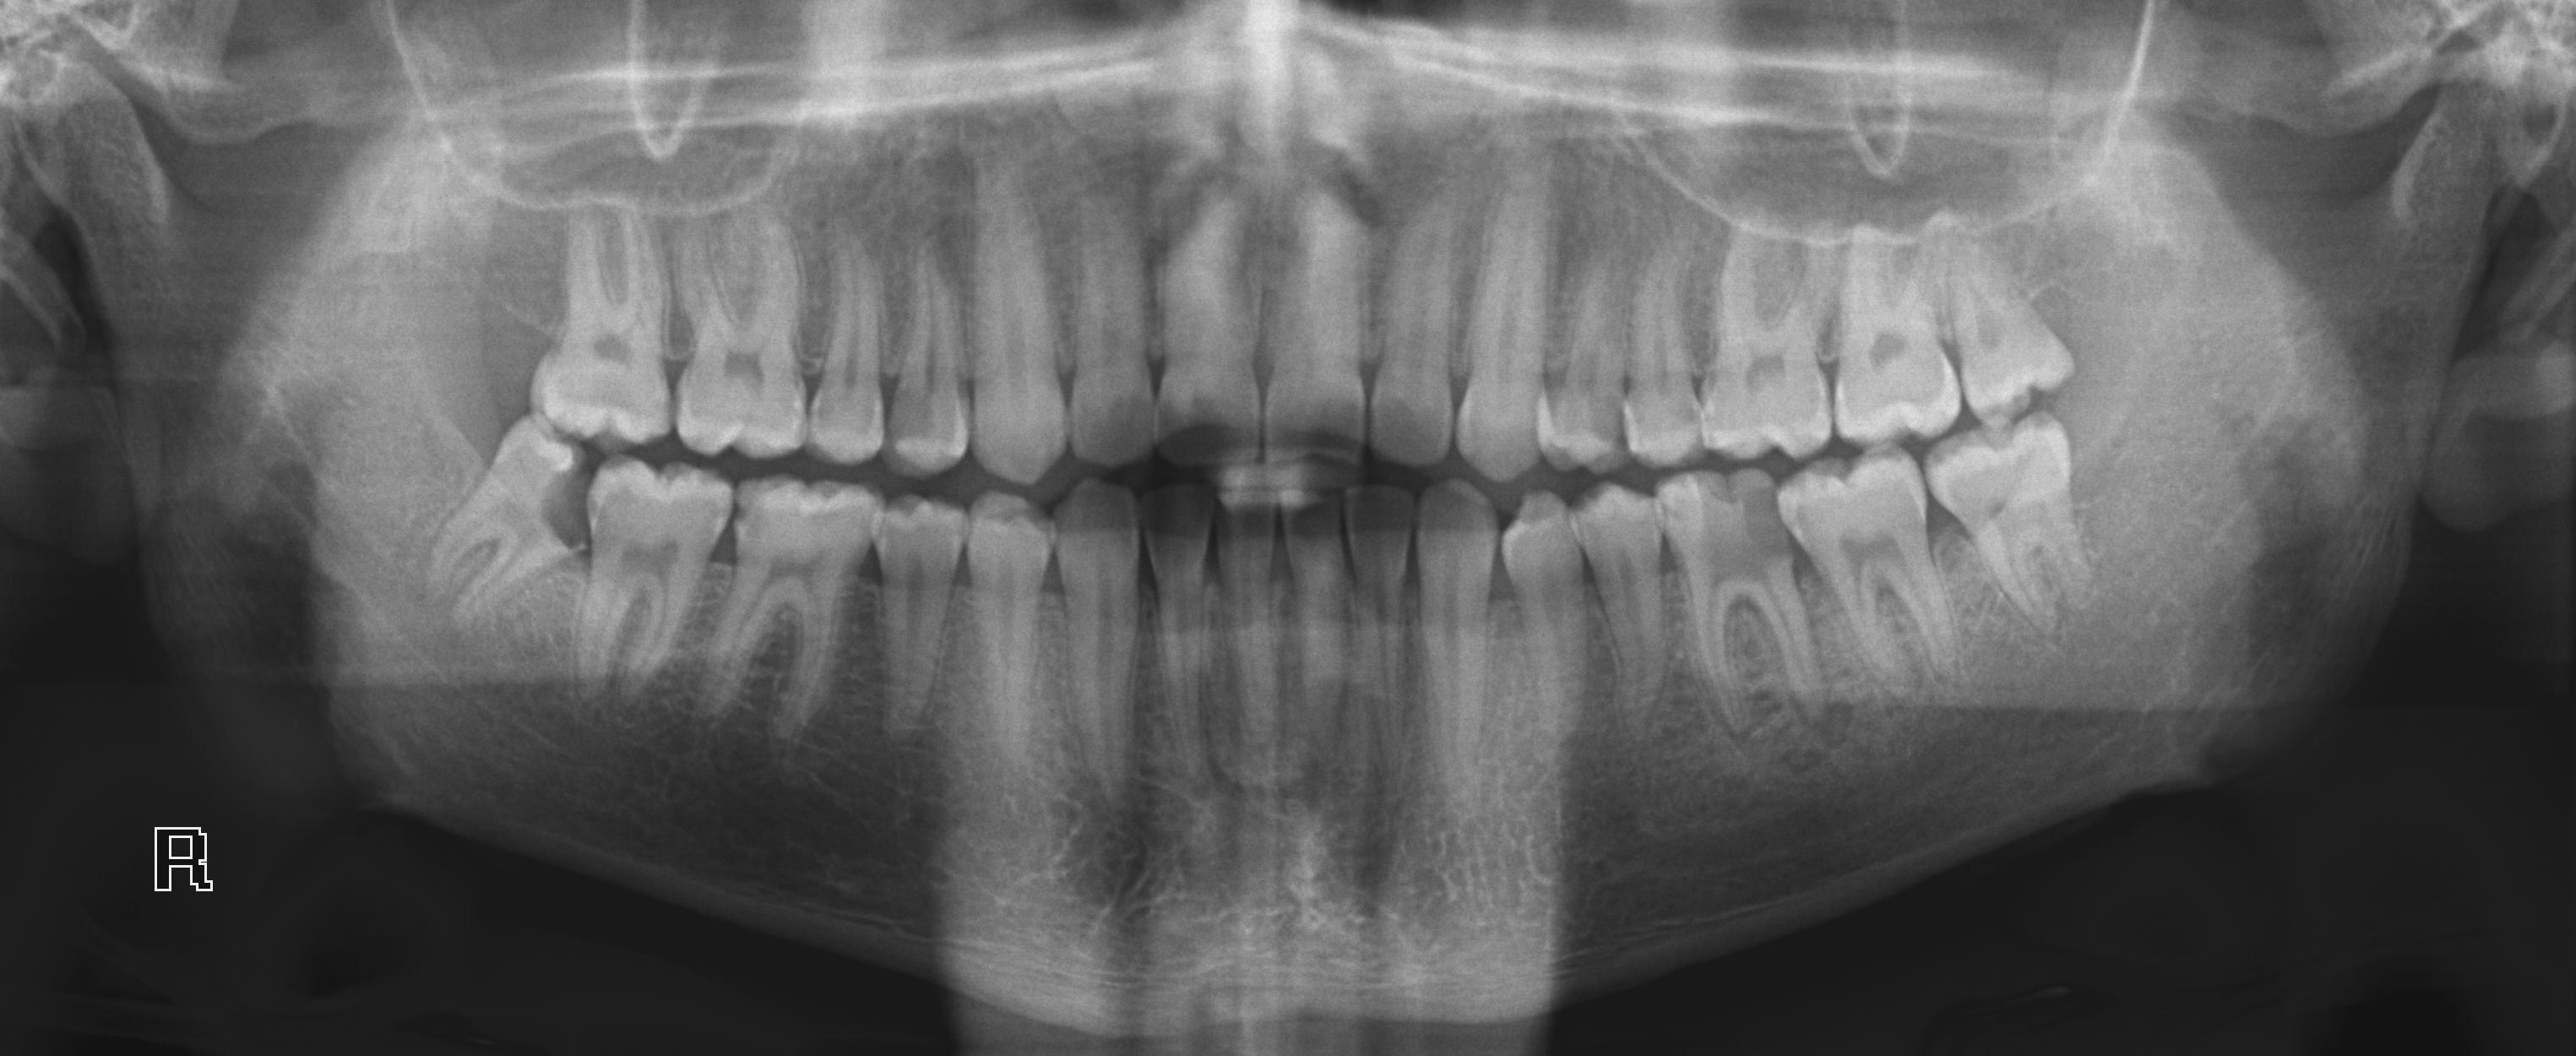Çürük Bölgesi: (1700, 471, 1796, 576), (536, 455, 606, 562), (728, 496, 762, 542)
